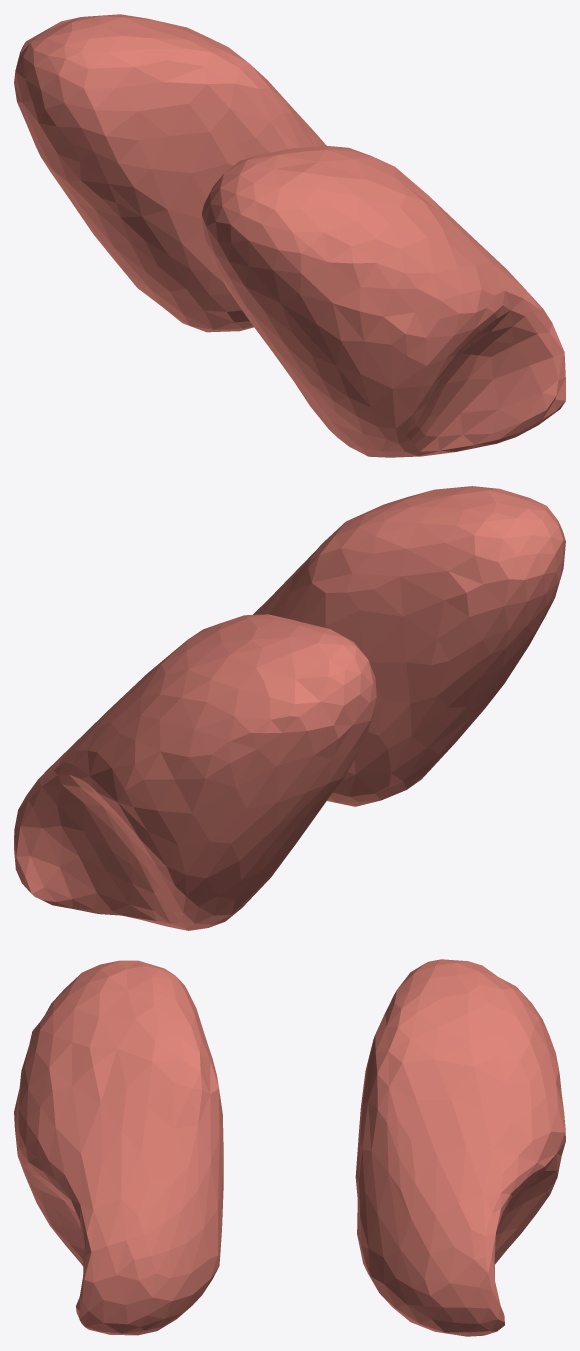
3 renders of one model, top to bottom at view 1: azimuth 30°, elevation 25°; view 2: azimuth 150°, elevation 25°; view 3: azimuth 270°, elevation 25°, orthographic. The views are drawn at different scales.
Parts seen in each view (by area): view 1: 88.obj; view 2: 88.obj; view 3: 88.obj.
Part boxes in pixels (x1,y1,x2,y2): 88.obj: (14, 14, 565, 457); 88.obj: (14, 486, 565, 930); 88.obj: (14, 959, 565, 1336).
Size of the model in its own units: 1103 by 1027 by 1826.
